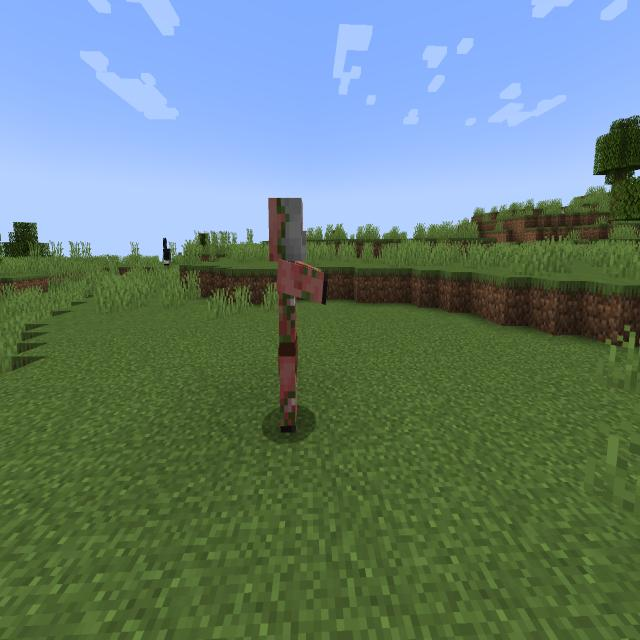Zombified Piglin: (256, 183, 334, 452)
